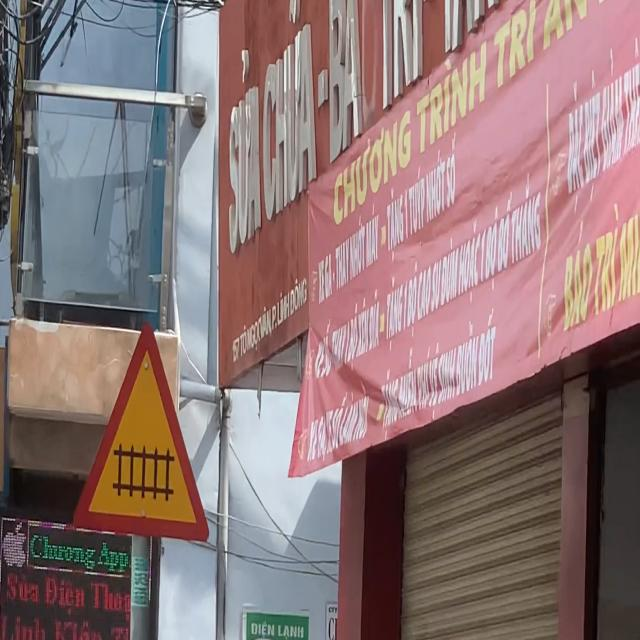Nguy hiem: (70, 319, 211, 547)
